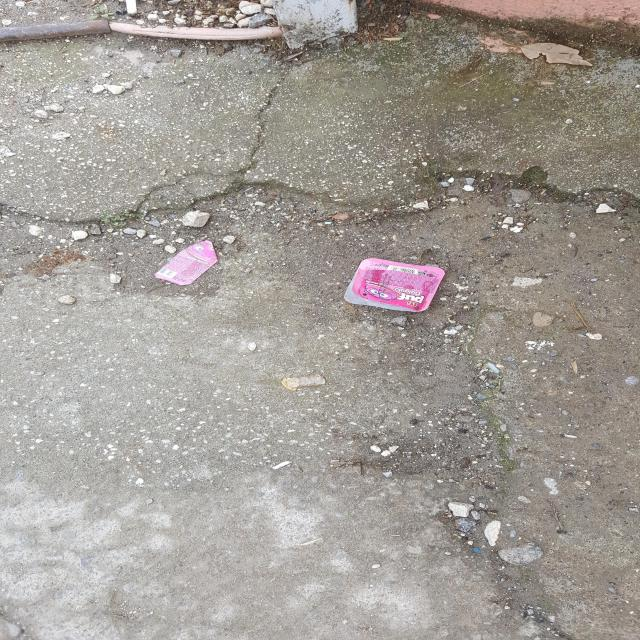litter: (458, 110, 555, 166), (427, 237, 508, 273)
